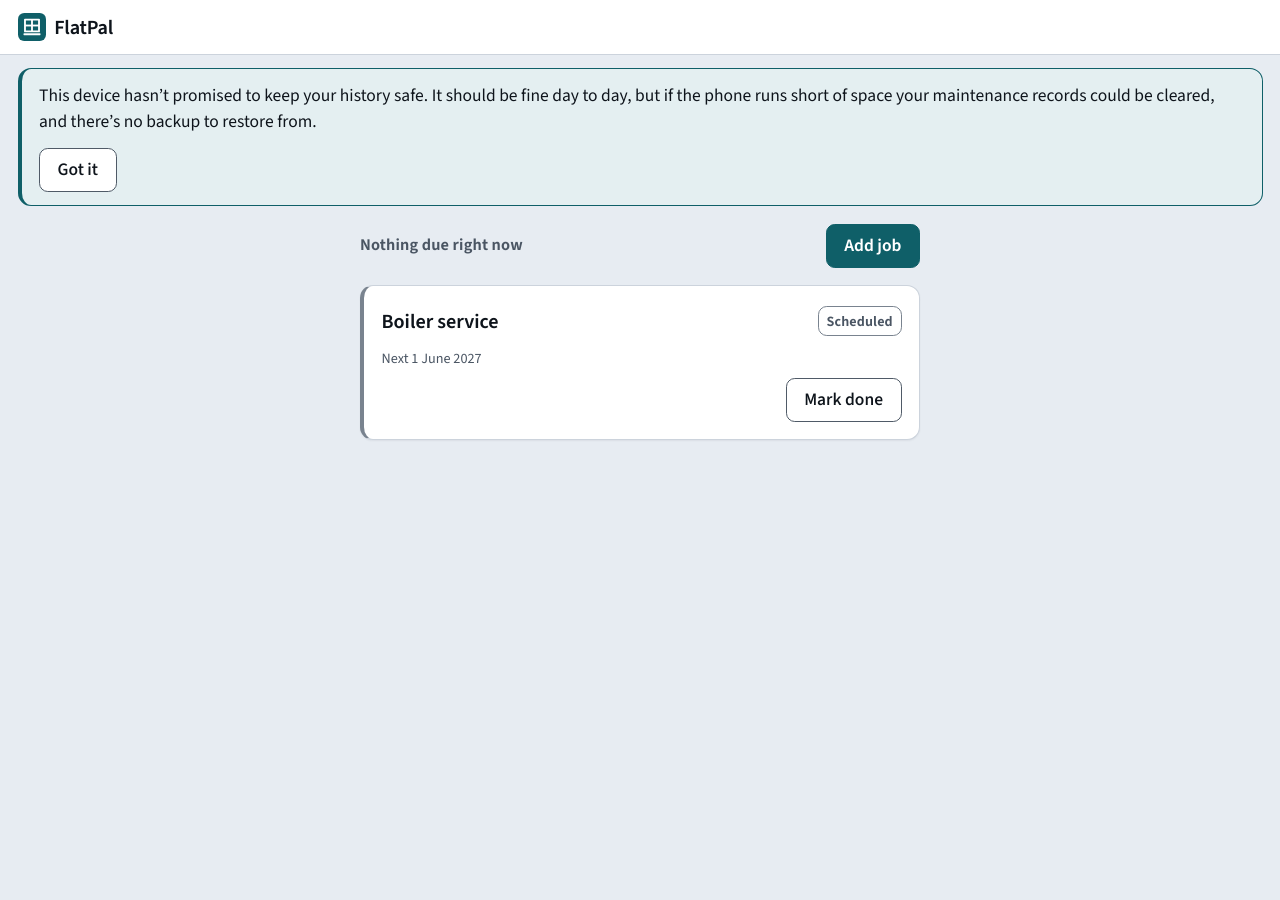
Scenario: removing one completion from a job’s history › says where the due date moves back to, and what the job will then show as
Click the button "Boiler service".
click(440, 321)  # box x1=382 y1=299 x2=499 y2=343
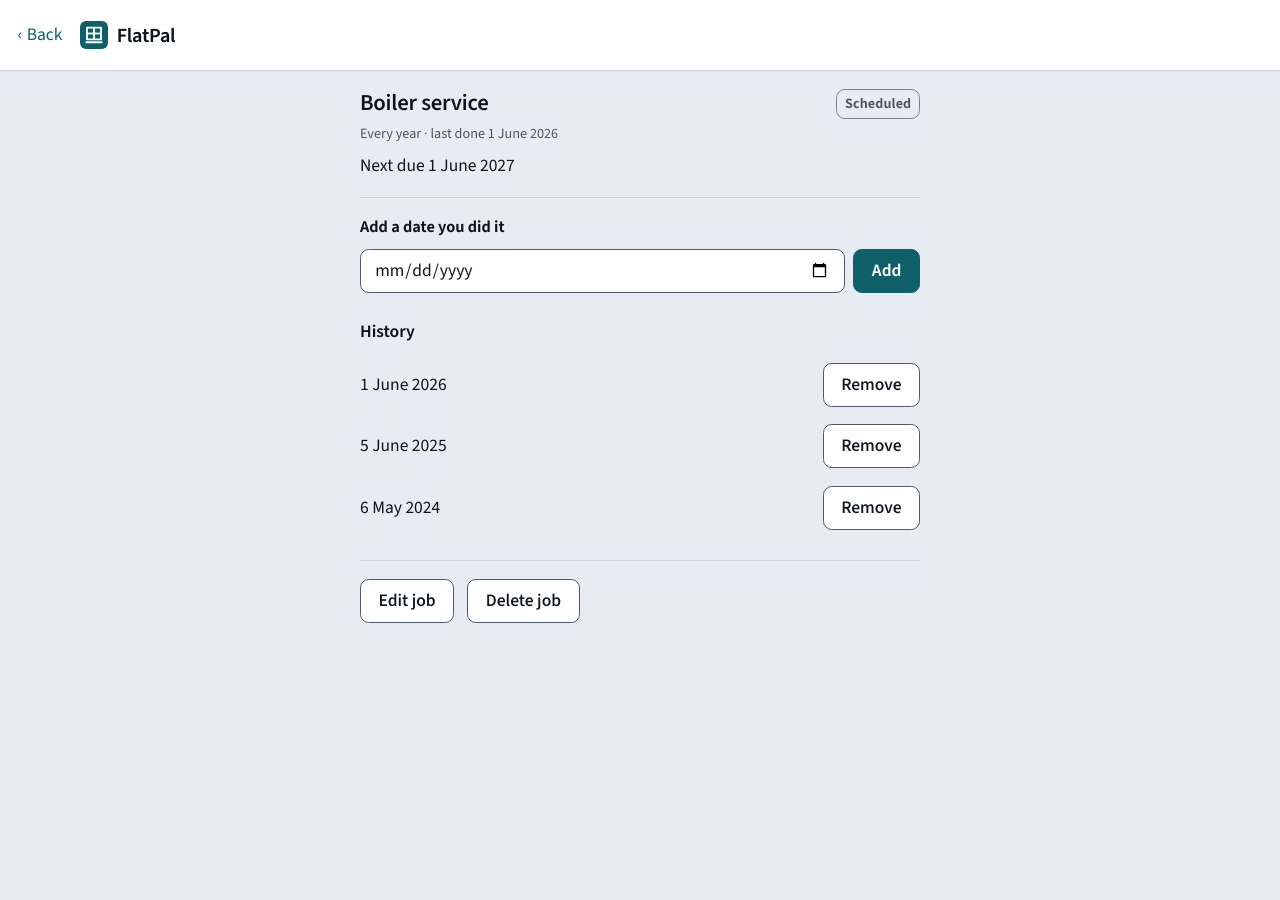
Click the button named "Remove the completion on 1 June 2026".
click(871, 385)  # box x1=823 y1=363 x2=920 y2=407
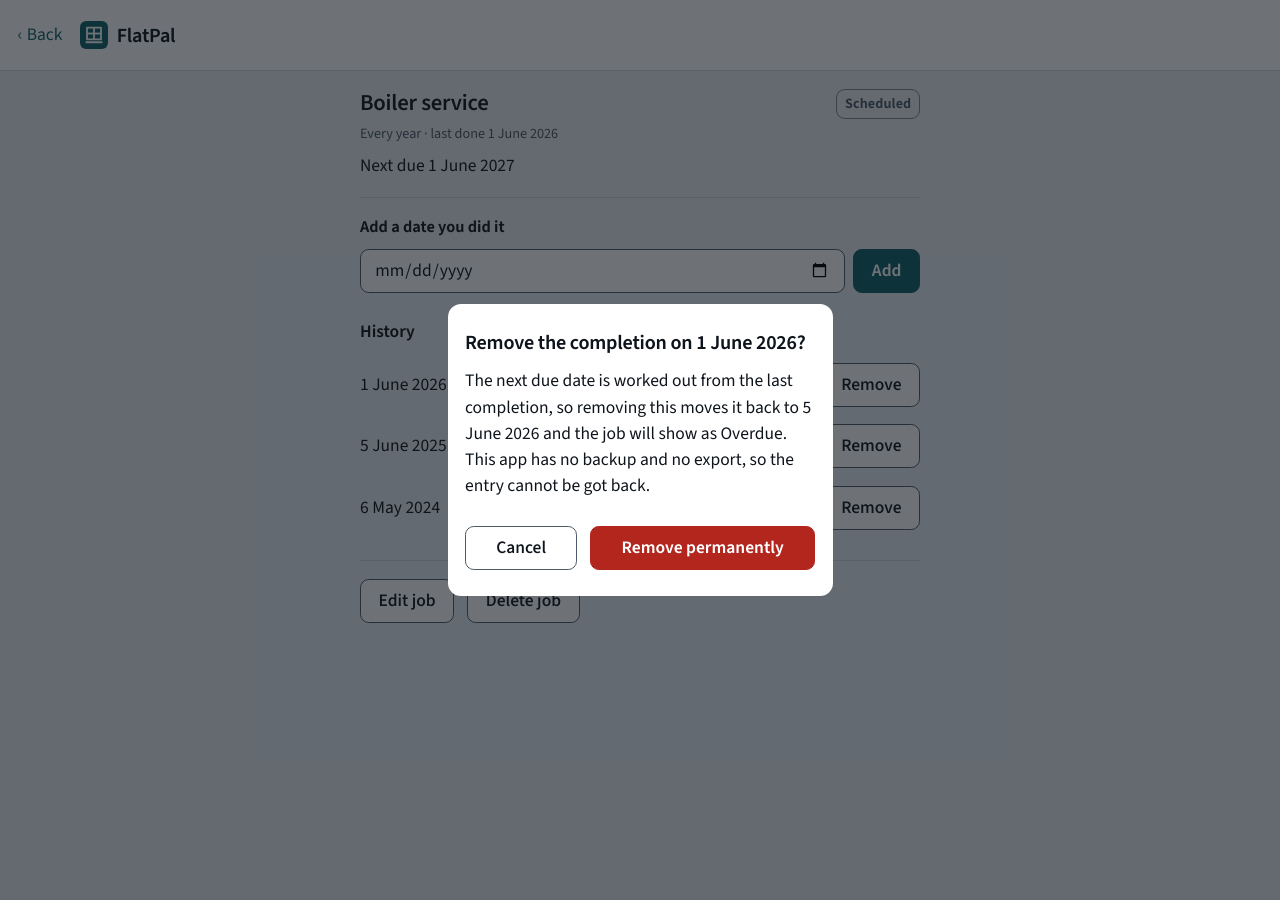
Now the dialog "Remove the completion on 1 June 2026?" is shown, box x1=448 y1=304 x2=832 y2=596
